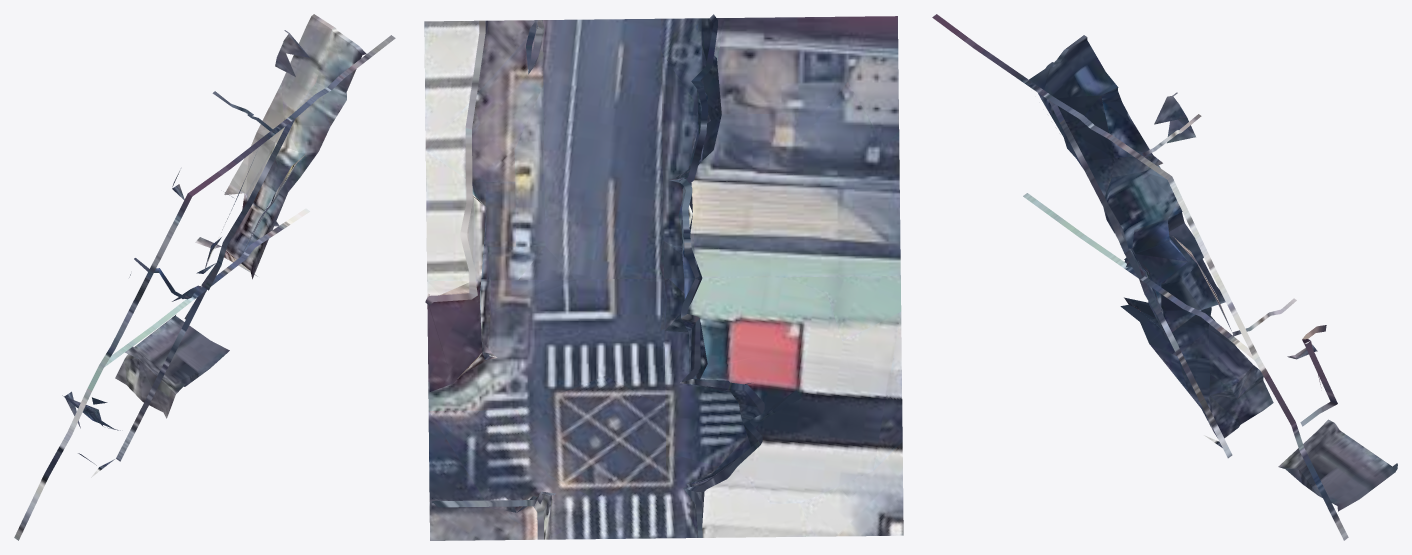
The picture shows the model from 3 angles, left to right: view 1: azimuth 30°, elevation 25°; view 2: azimuth 150°, elevation 25°; view 3: azimuth 270°, elevation 25°; orthographic projection. The views are drawn at different scales.
Size of the model in its own units: 38.18 by 37.37 by 35.84.
1 material, 1 textured.
